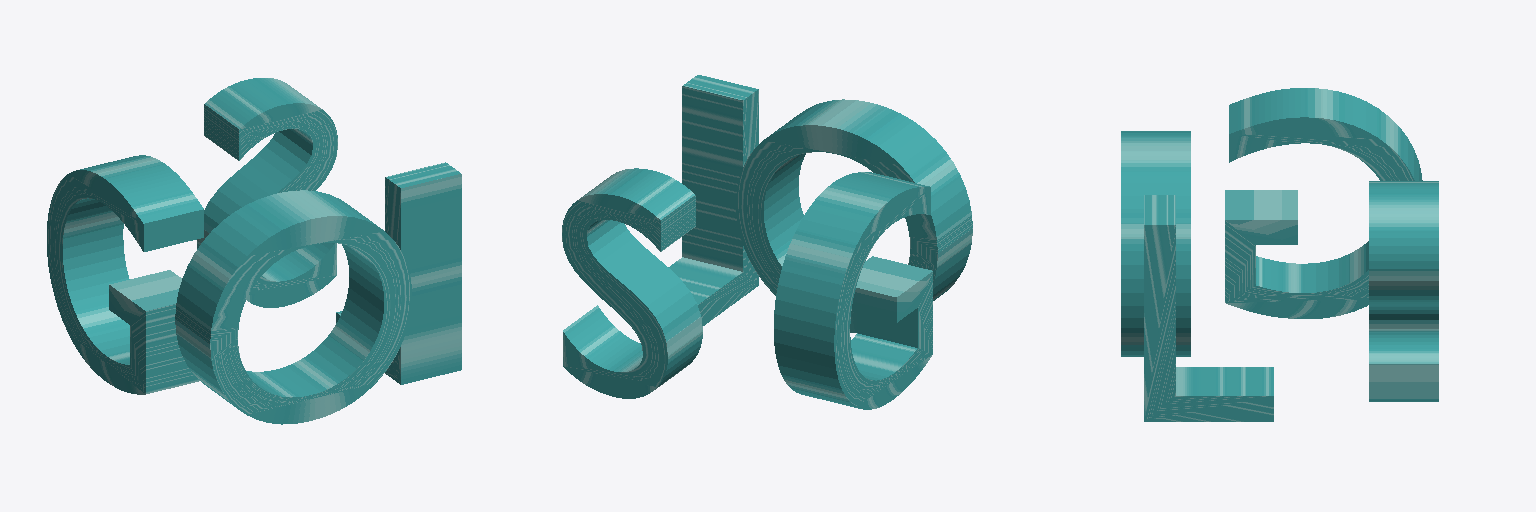
3 views of the same model, side by side, from view 1: azimuth 30°, elevation 25°; view 2: azimuth 150°, elevation 25°; view 3: azimuth 270°, elevation 25° (orthographic).
Visible parts, largest first — view 1: Text, Text.001, Text.002, Text.003; view 2: Text.001, Text.002, Text, Text.003; view 3: Text.001, Text.002, Text.003, Text.
Part boxes in pixels (x1,y1,x2,y2): Text: (175,190,411,424); Text.001: (47,155,203,394); Text.002: (197,78,337,307); Text.003: (336,162,461,384); Text.001: (774,172,932,409); Text.002: (562,168,702,398); Text: (736,99,972,332); Text.003: (668,75,758,325); Text.001: (1225,88,1422,318); Text.002: (1369,181,1438,401); Text.003: (1144,195,1273,421); Text: (1121,131,1190,356).
Bounding box in the file's own units: 1 × 0.7 × 1.
Materials: 1 (1 with a texture image).